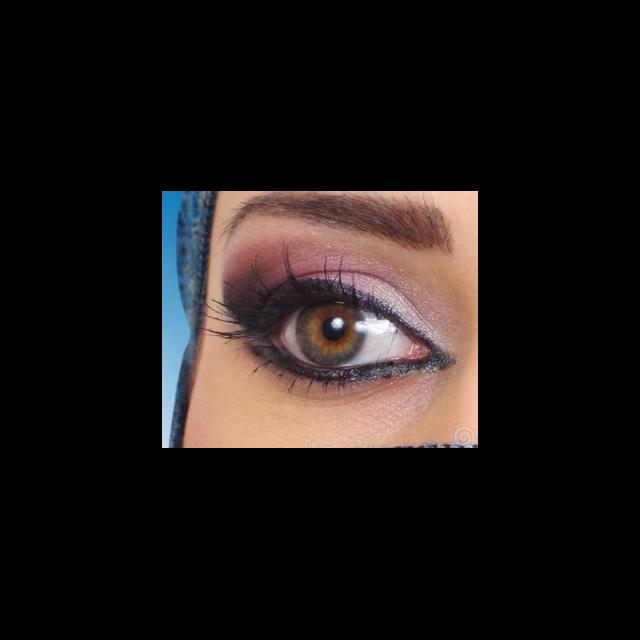eye: (279, 298, 414, 370)
iris: (296, 303, 366, 367)
